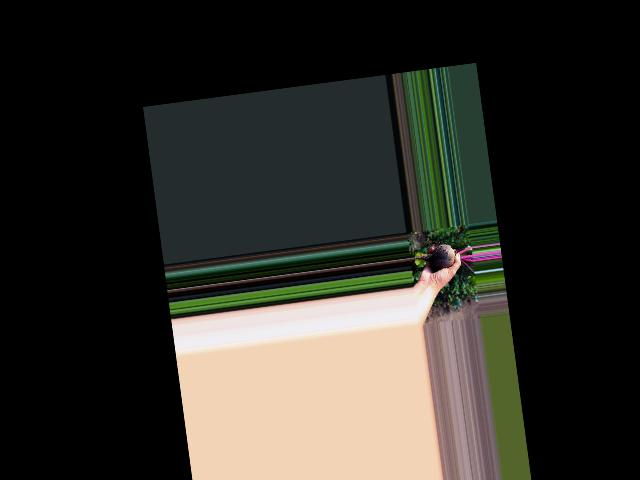beet: (406, 230, 475, 282)
